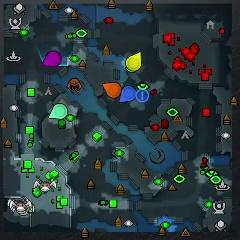Other: (135, 89, 150, 103)
p1: (120, 85, 136, 102)
p2: (49, 103, 67, 119)
p3: (43, 50, 61, 65)
p4: (125, 52, 141, 70)
p5: (102, 82, 122, 99)
